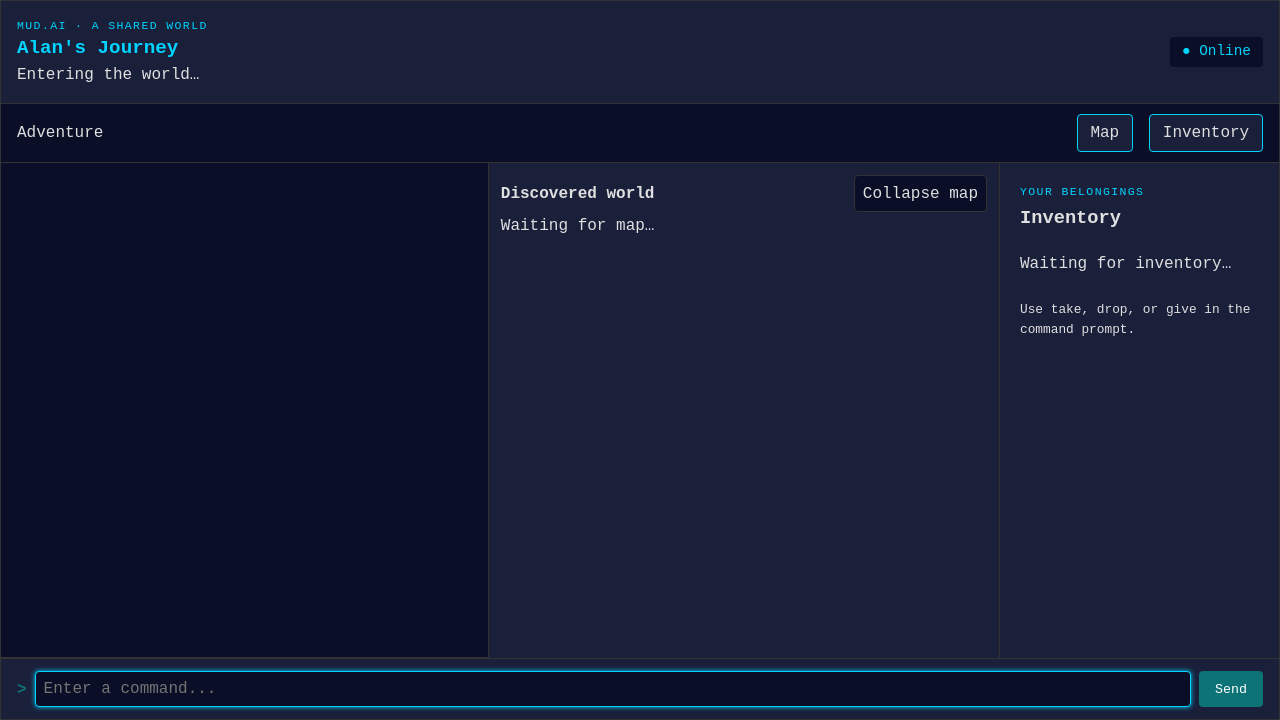
Test: Terminal › explains valid options for an invalid theme
Type "/theme sepia" into the field with test id "command-input" at (613, 689), box [35,671,1191,707]
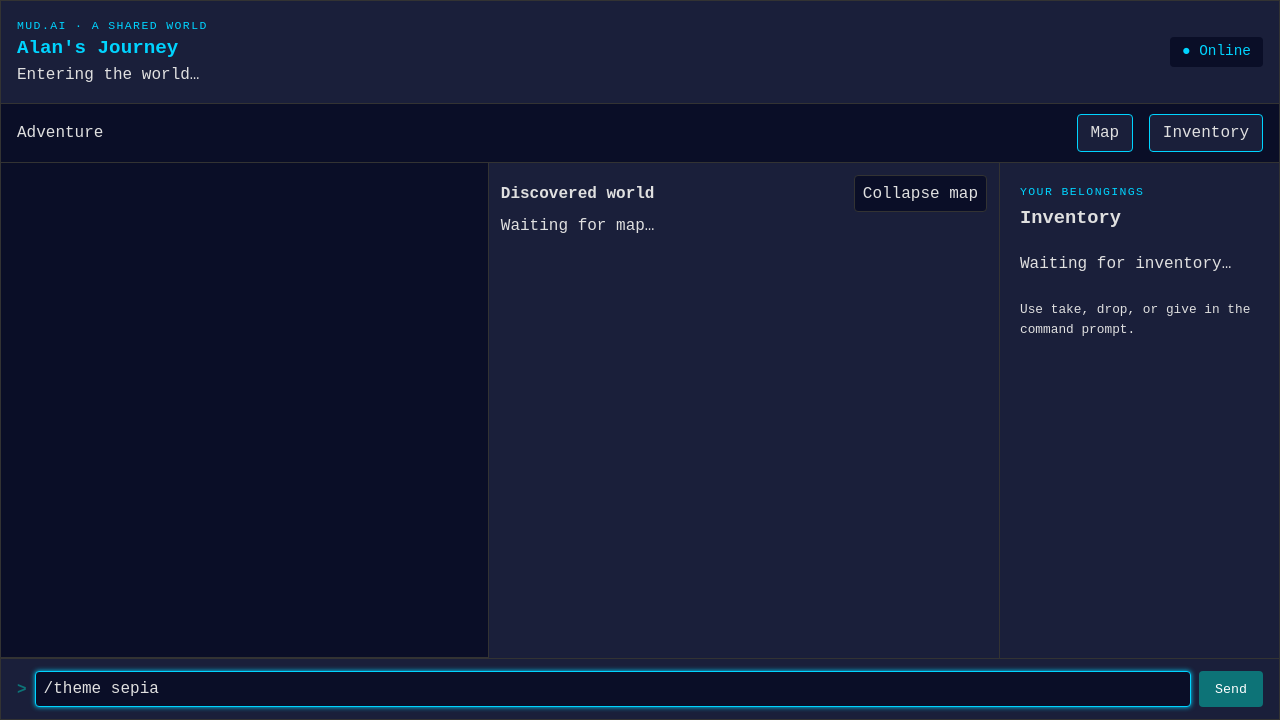
Submit the form with test id "command-input", box [1,658,1279,719]
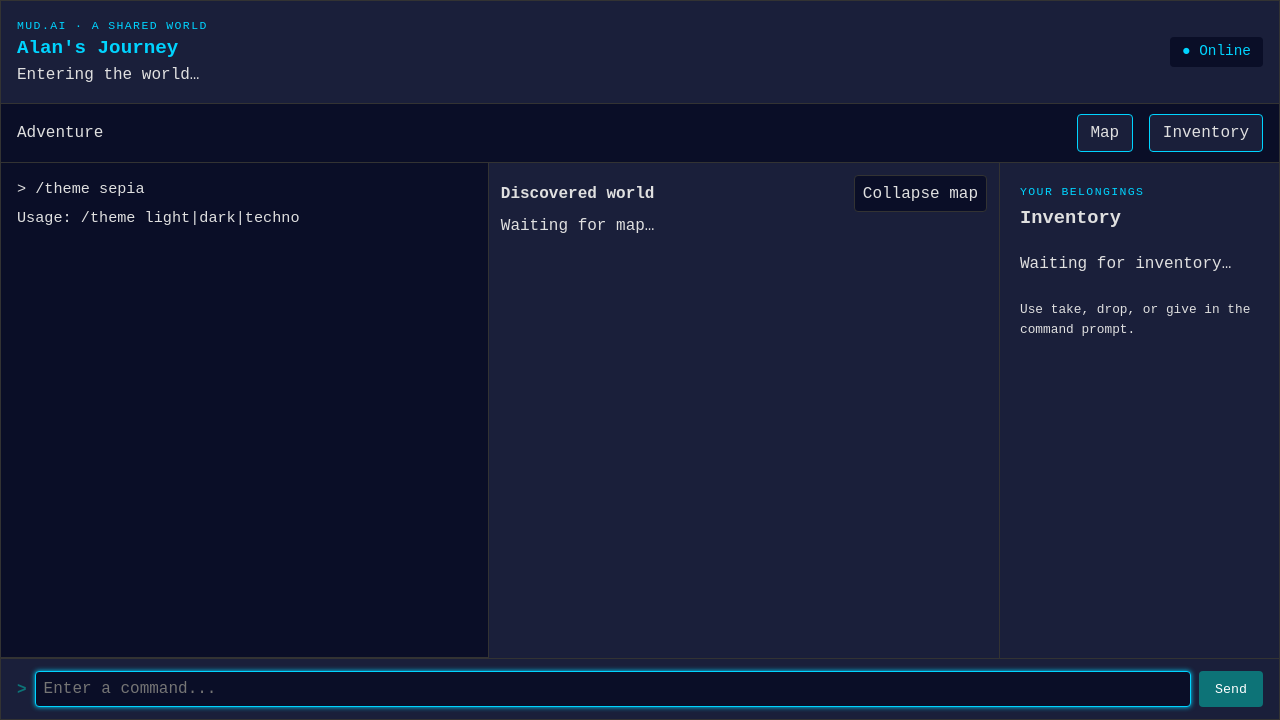
Expected: the text "Usage: /theme light|dark|techno" is shown, [17,209,300,227]
